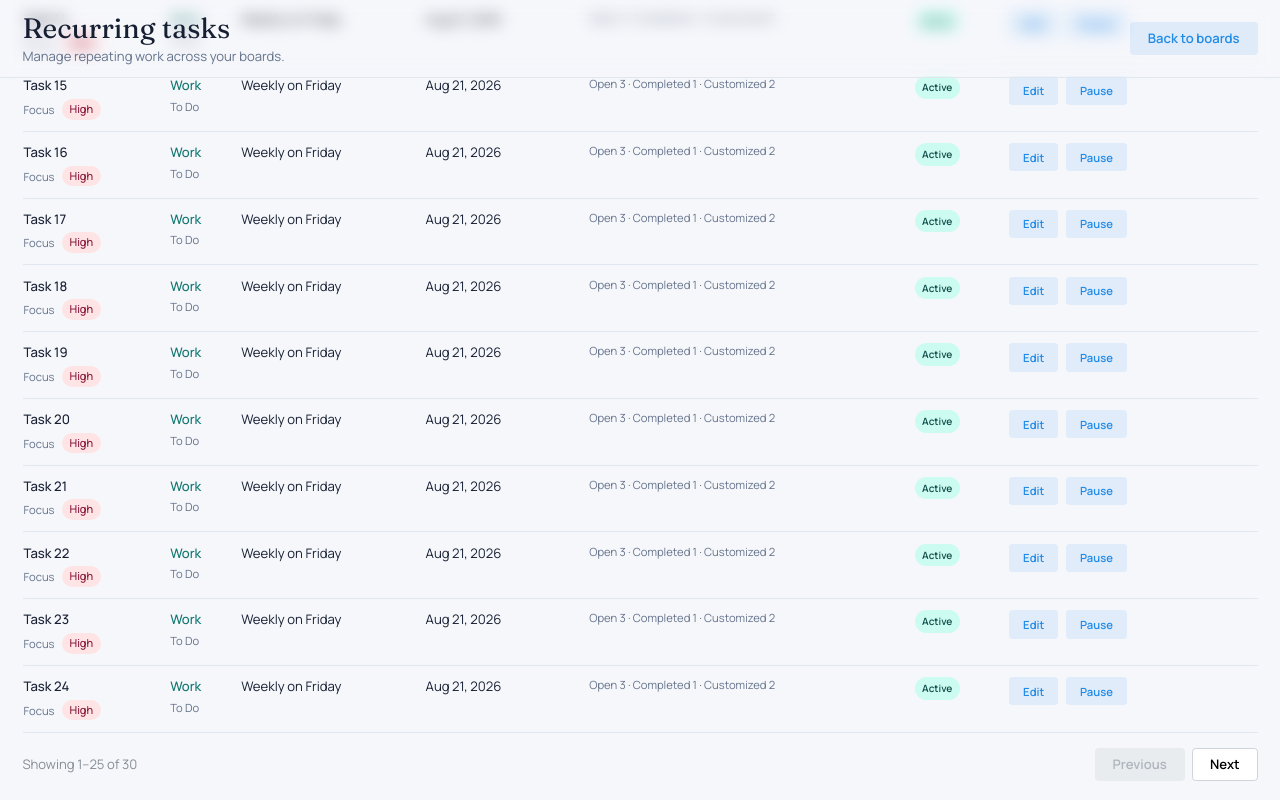
Test: Recurring tasks page › uses correct offsets for Previous and Next
(page scrolled)
Check: the text "Showing 1–25 of 30" is shown, box [22, 755, 137, 774]
Check: the button "Previous" is disabled, box [1095, 748, 1185, 781]
Click the button "Next": (1225, 764) [1192, 748, 1258, 781]
(page scrolled)
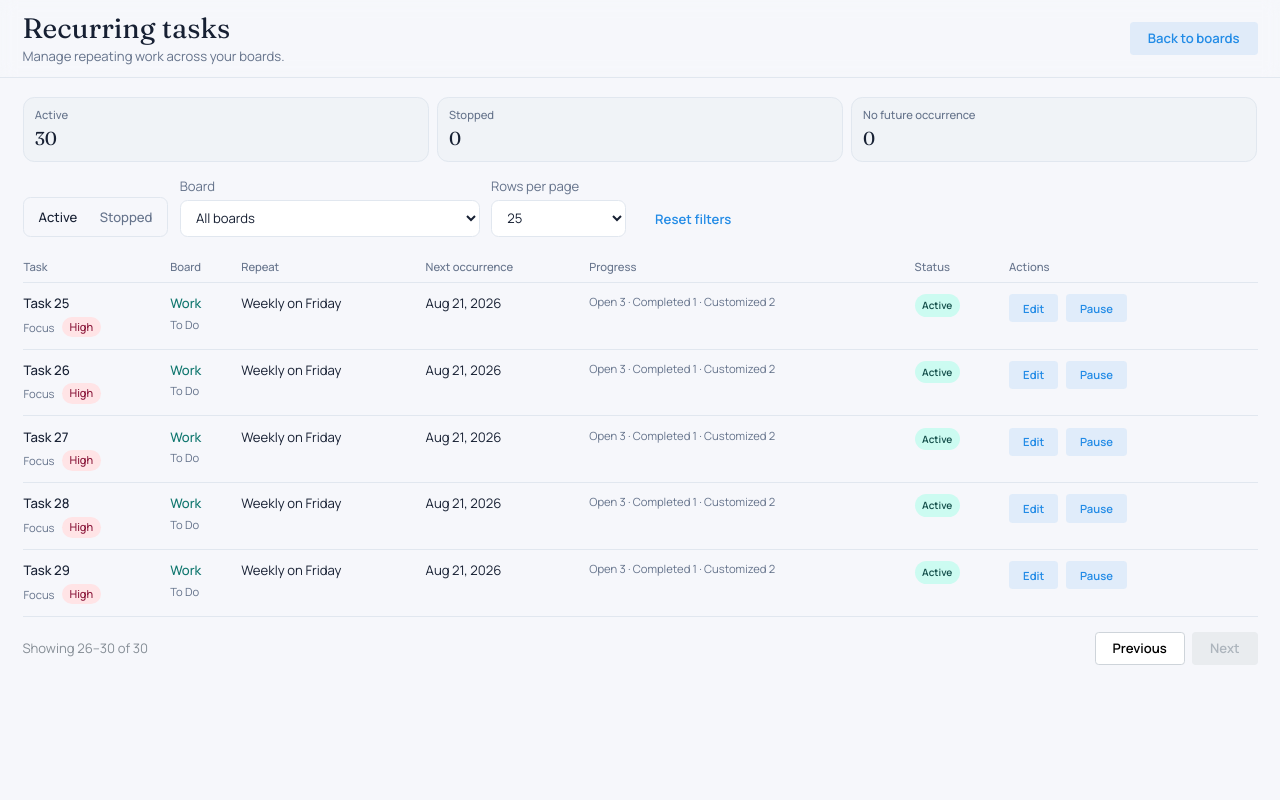
Check: the text "Showing 26–30 of 30" is shown, box [22, 639, 148, 658]
Check: the button "Next" is disabled, box [1192, 632, 1258, 665]
Click the button "Previous": (1140, 648) [1095, 632, 1185, 665]
(page scrolled)
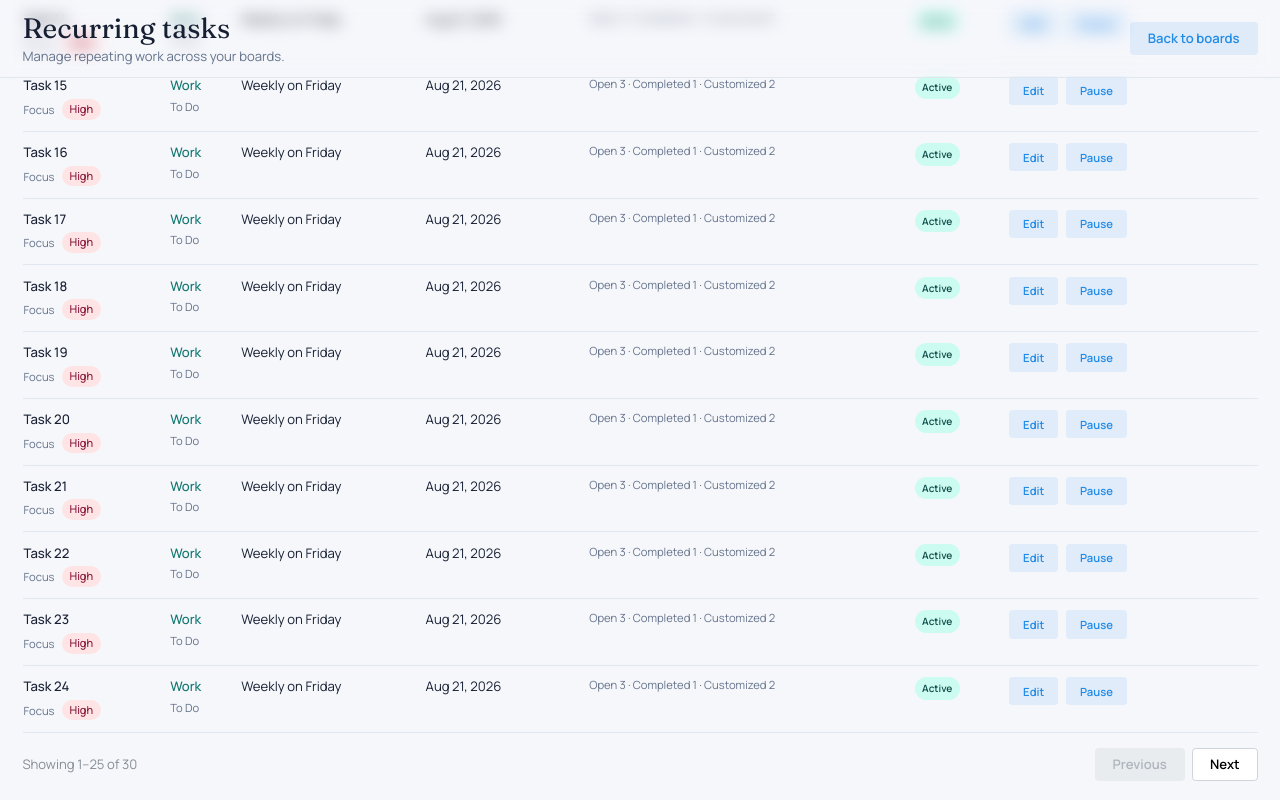
Check: the text "Showing 1–25 of 30" is shown, box [22, 755, 137, 774]
